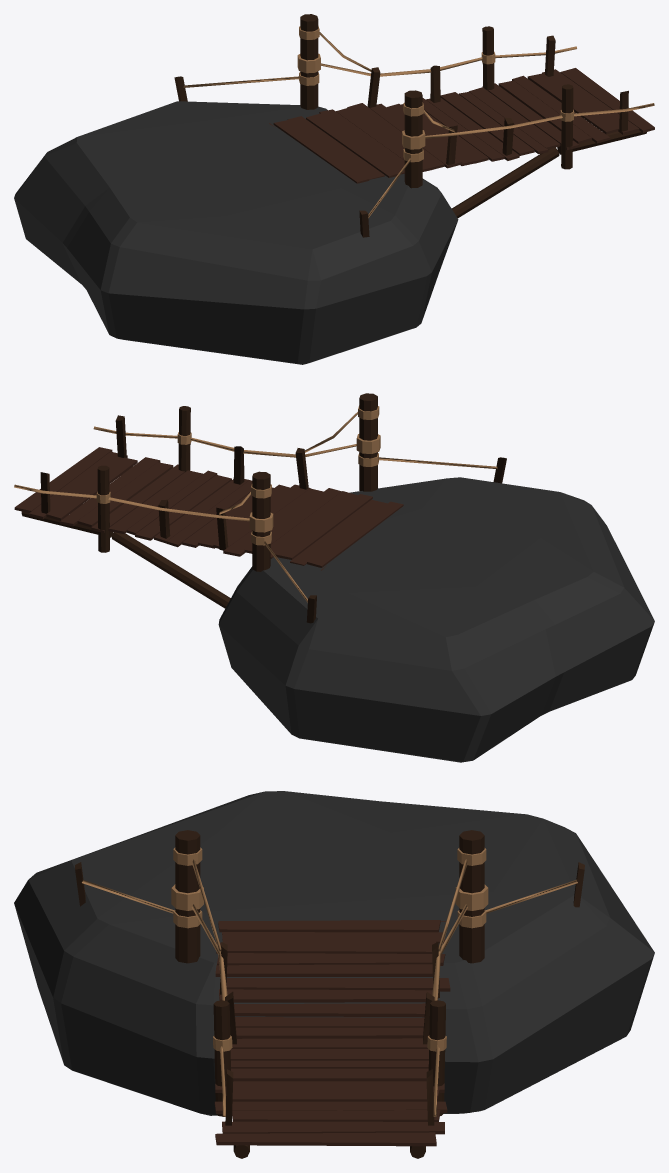
Rendered from Assets - Wooden Bridge End 1.0.fbx.
3 views of the same model, one above another, from view 1: azimuth 30°, elevation 25°; view 2: azimuth 150°, elevation 25°; view 3: azimuth 270°, elevation 25° (orthographic). The views are drawn at different scales.
Parts seen in each view (by area): view 1: Wood Bridge Foundation, Wood Bridge End, Wood Bridge End Leg, Wood Bridge End Rope; view 2: Wood Bridge Foundation, Wood Bridge End, Wood Bridge End Leg, Wood Bridge End Rope; view 3: Wood Bridge Foundation, Wood Bridge End, Wood Bridge End Leg, Wood Bridge End Rope.
Boxes of the visible parts, x1,y1,x2,y2 form: Wood Bridge Foundation: (14, 101, 458, 364); Wood Bridge End: (269, 68, 654, 183); Wood Bridge End Leg: (174, 14, 646, 237); Wood Bridge End Rope: (183, 32, 654, 217); Wood Bridge Foundation: (218, 477, 654, 762); Wood Bridge End: (14, 447, 403, 570); Wood Bridge End Leg: (21, 393, 506, 623); Wood Bridge End Rope: (14, 412, 497, 602); Wood Bridge Foundation: (14, 791, 654, 1115); Wood Bridge End: (214, 920, 450, 1146); Wood Bridge End Leg: (75, 830, 584, 1158); Wood Bridge End Rope: (82, 859, 577, 1116).
Size of the model in its own units: 3189 by 2371 by 1075.
